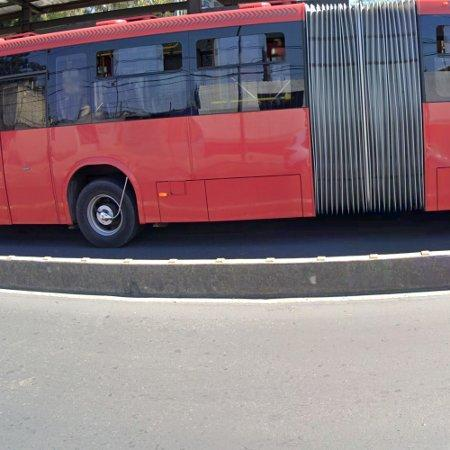buses: (0, 0, 450, 247)
